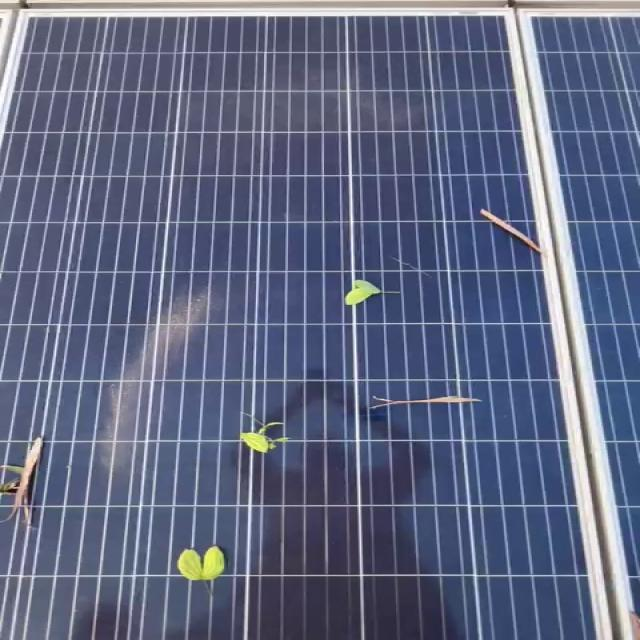dust_partical: (78, 275, 212, 466), (213, 63, 477, 139)
old_leaf: (127, 526, 235, 592), (452, 198, 568, 258), (353, 386, 505, 429), (328, 272, 414, 326), (236, 424, 296, 456)
